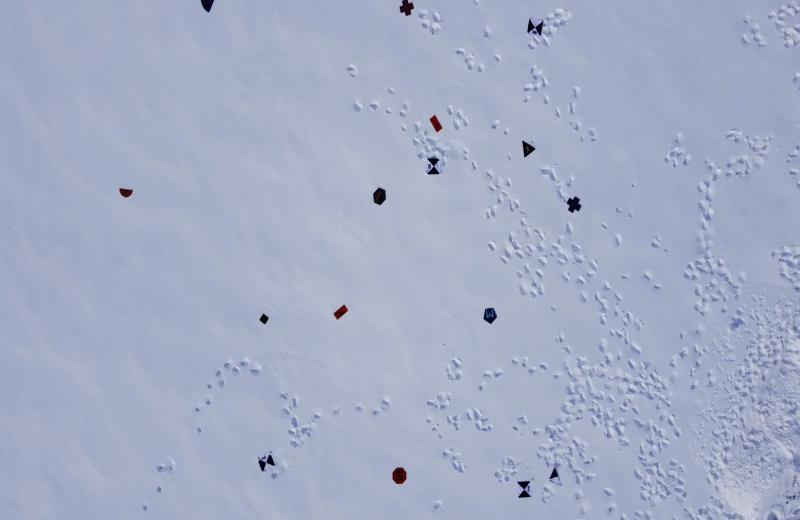Cross: (566, 195, 582, 214), (399, 0, 415, 17)
Hexagon: (372, 186, 388, 207)
Octagon: (392, 467, 407, 485)
Pentagon: (483, 307, 498, 325)
Quarter Circle: (200, 0, 216, 14)
Rectangle: (429, 116, 443, 136), (334, 304, 348, 319)
Semi Circle: (118, 187, 134, 199)
Square: (260, 313, 269, 326)
Triangle: (520, 139, 536, 159)
